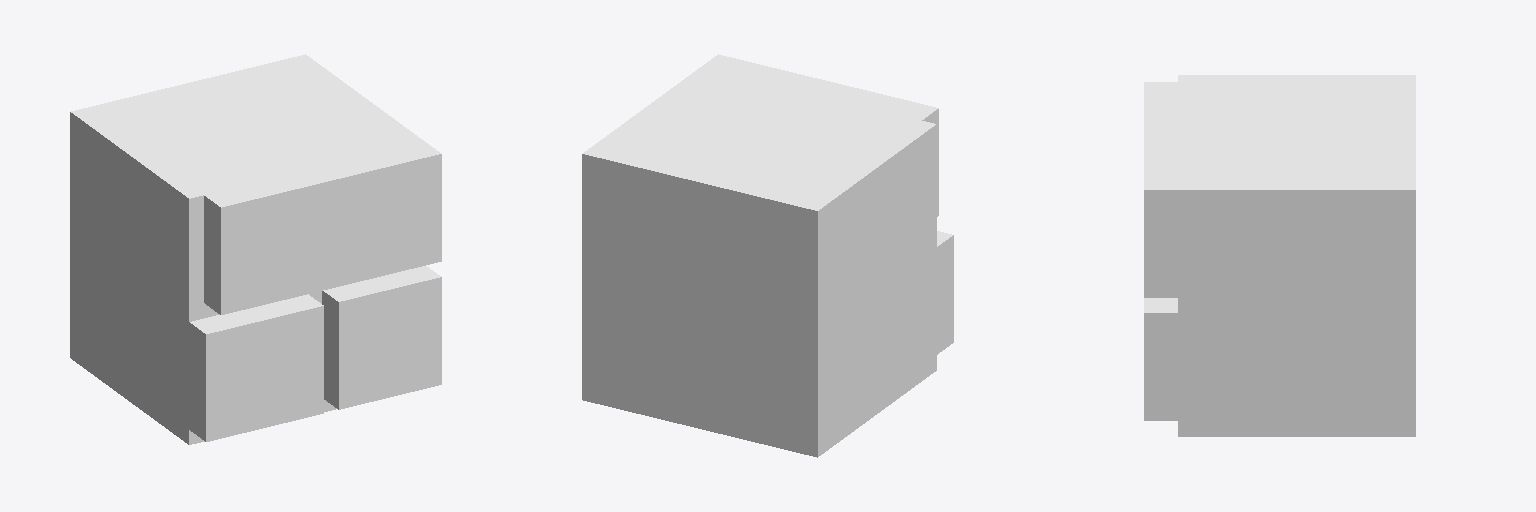
File: bricks.obj
3 renders of one model, left to right at view 1: azimuth 30°, elevation 25°; view 2: azimuth 150°, elevation 25°; view 3: azimuth 270°, elevation 25°, orthographic.
Parts seen in each view (by area): view 1: bricks; view 2: bricks; view 3: bricks.
Boxes of the visible parts, box(x1,y1,x2,y2) form: bricks: box(70, 54, 441, 444); bricks: box(582, 54, 953, 457); bricks: box(1144, 75, 1415, 436).
Size of the model in its own units: 0.1 by 0.1 by 0.1.